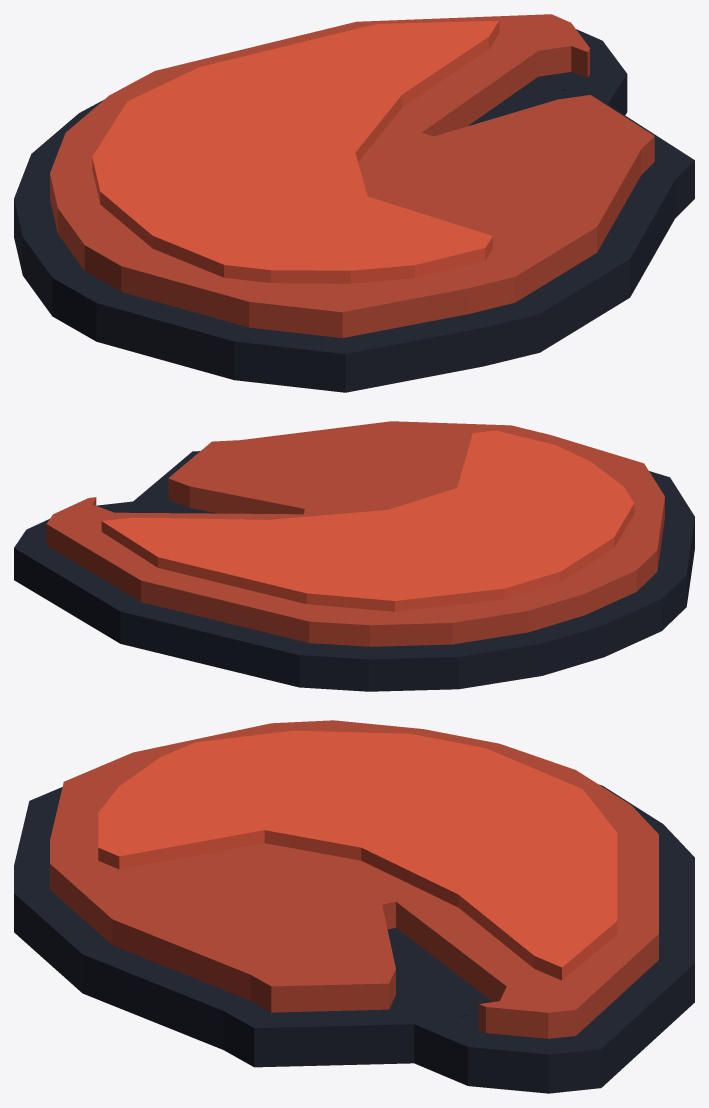
File: crab_claws.fbx
The picture shows the model from 3 angles, top to bottom: view 1: azimuth 30°, elevation 25°; view 2: azimuth 150°, elevation 25°; view 3: azimuth 270°, elevation 25°; orthographic projection. The views are drawn at different scales.
Parts seen in each view (by area): view 1: crab_claws; view 2: crab_claws; view 3: crab_claws.
Part boxes in pixels (x1,y1,x2,y2): crab_claws: (14, 14, 694, 392); crab_claws: (14, 421, 694, 691); crab_claws: (14, 720, 694, 1093).
Size of the model in its own units: 1.06 by 0.12 by 0.9462.
1 material, 1 textured.
